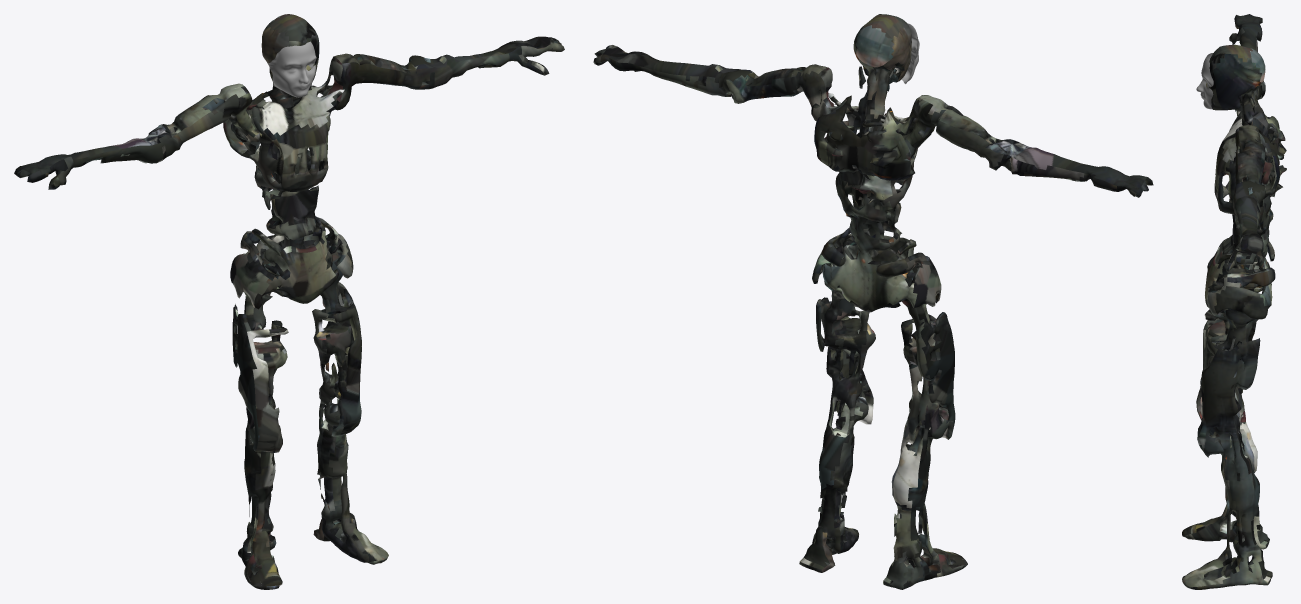
Rendered from robot skeletal resized 1.fbx.
3 renders of one model, left to right at view 1: azimuth 30°, elevation 25°; view 2: azimuth 150°, elevation 25°; view 3: azimuth 270°, elevation 25°, orthographic. The views are drawn at different scales.
Parts seen in each view (by area): view 1: robot_skeletal, face_i_hope2; view 2: robot_skeletal; view 3: robot_skeletal, face_i_hope2.
Boxes of the visible parts, x1,y1,x2,y2 form: robot_skeletal: (14,14,564,589); face_i_hope2: (268,41,316,97); robot_skeletal: (593,14,1153,589); robot_skeletal: (1182,14,1286,589); face_i_hope2: (1196,53,1213,109).
Bounding box in the file's own units: 189 × 180 × 33.64.
